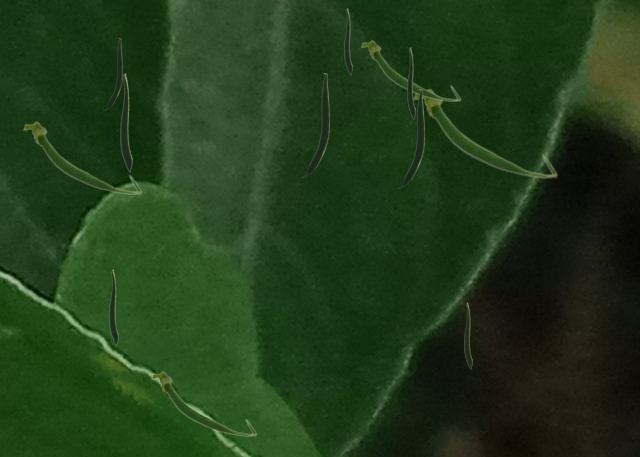french_bean: (414, 88, 557, 178), (22, 121, 141, 194), (150, 370, 256, 436), (360, 39, 460, 101), (302, 73, 328, 176), (398, 89, 423, 187), (104, 38, 121, 109), (120, 73, 131, 171), (109, 269, 117, 344), (407, 47, 414, 118), (464, 302, 471, 368), (344, 8, 351, 74)
